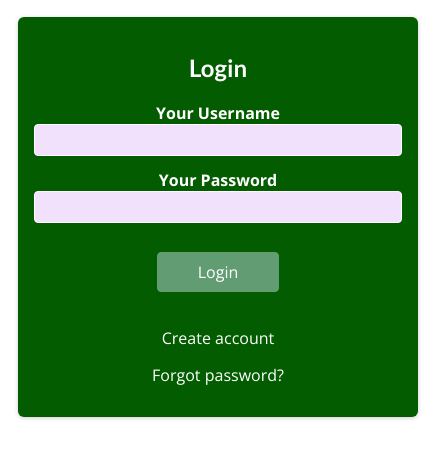
login tests › login with wrong credentials
Type "admin" into the field with test id "username". click: (218, 140)
box: [34,124,402,156]
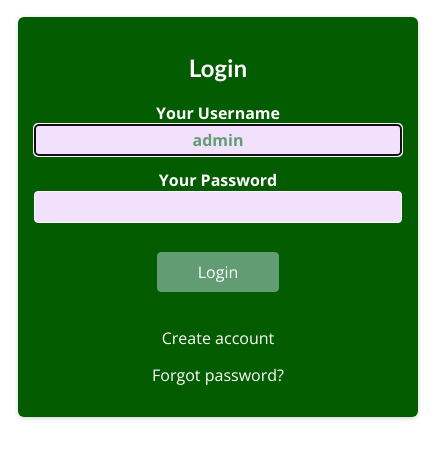
Type "pass" into the password field with test id "password". click: (218, 207)
box: [34,191,402,223]
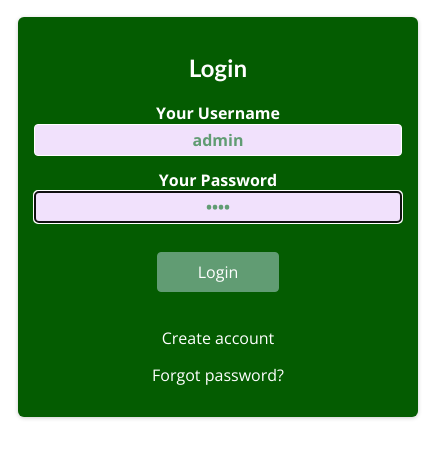
Click the button "Login". click: (218, 272)
box: [157,252,279,292]
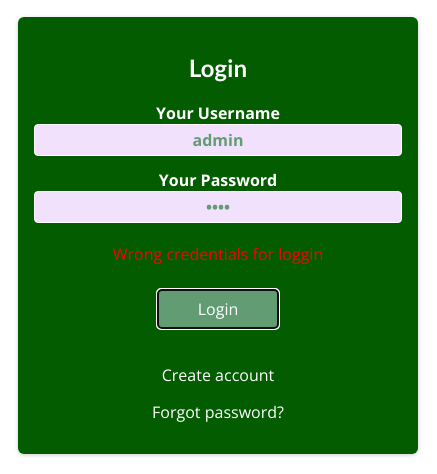
Check: the text "Wrong credentials for loggin" is shown, box [113,243,323,265]
